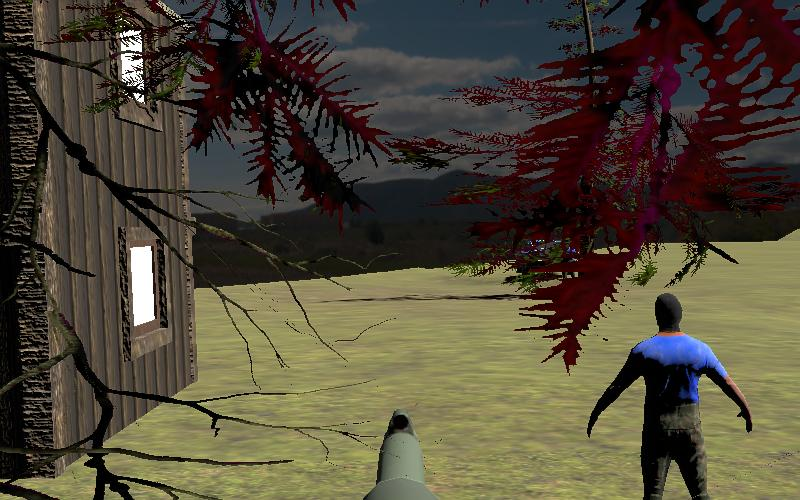House: (0, 0, 200, 480)
Human: (583, 287, 760, 497)
